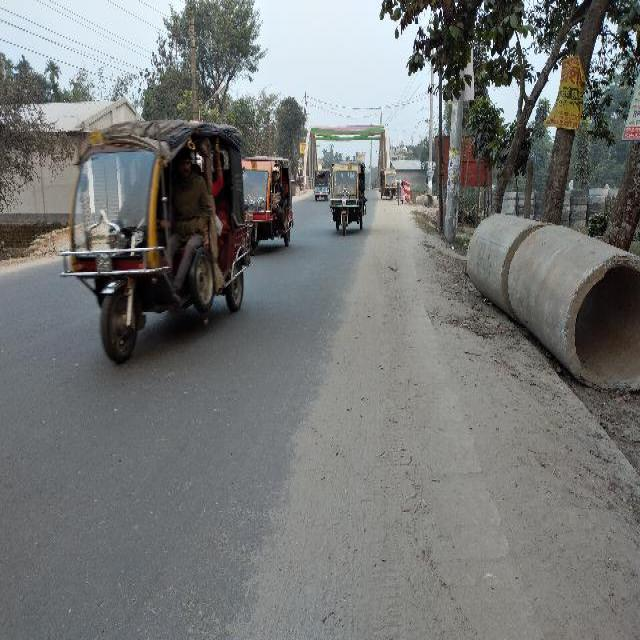bike: (398, 183, 402, 206)
vehicle: (57, 118, 248, 367), (242, 149, 295, 258), (330, 163, 369, 239), (379, 168, 395, 202), (313, 169, 329, 201)
